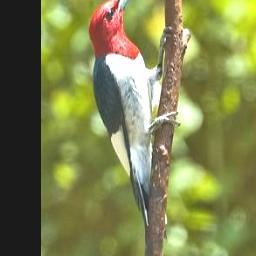Woodpecker: (87, 0, 179, 237)
